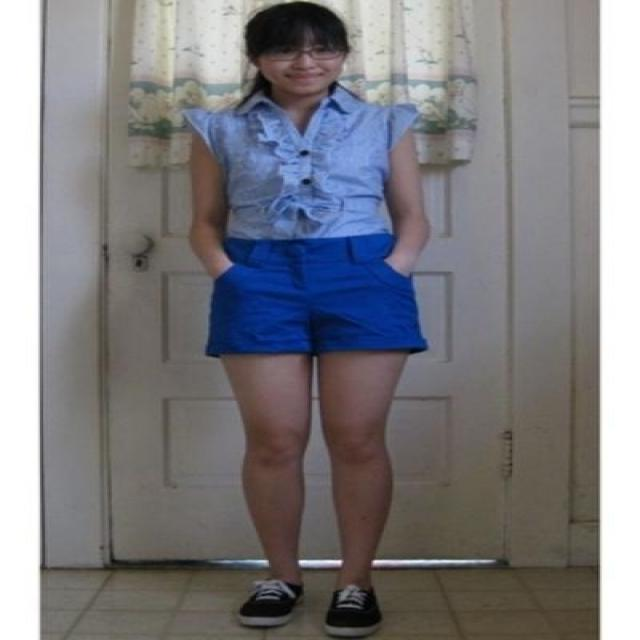shirt: (194, 90, 422, 239)
shoe: (238, 564, 381, 626)
shorts: (204, 78, 426, 360)
